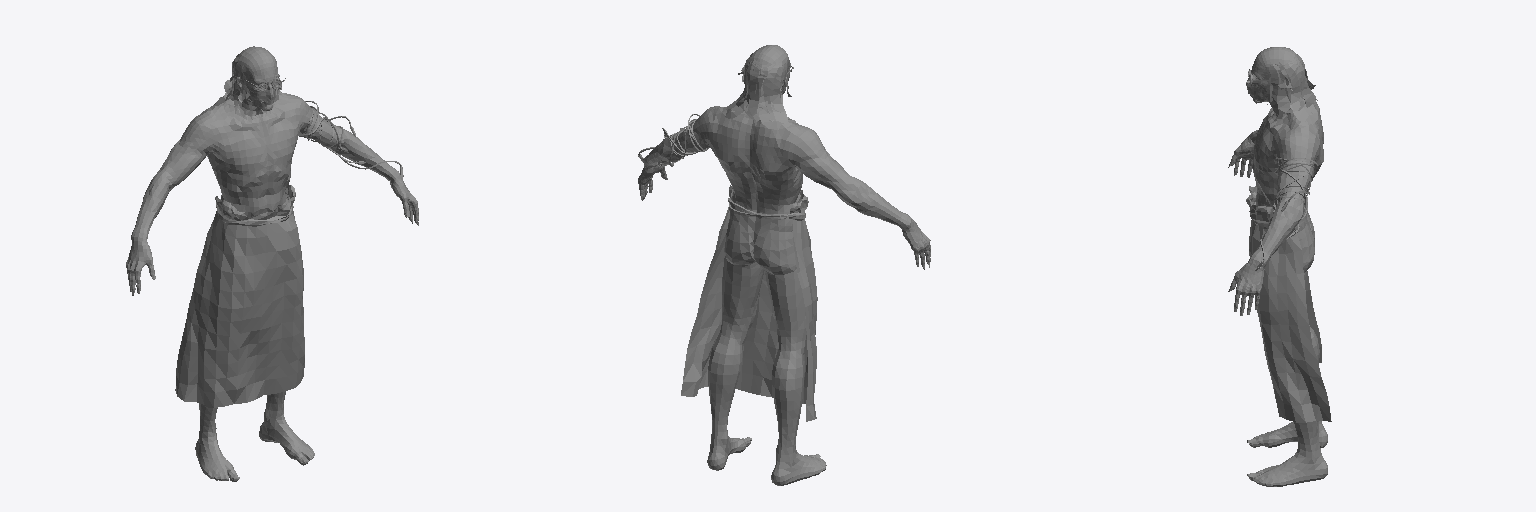
Rendered from Surgeon.obj.
3 renders of one model, left to right at view 1: azimuth 30°, elevation 25°; view 2: azimuth 150°, elevation 25°; view 3: azimuth 270°, elevation 25°, orthographic.
Visible parts, largest first — view 1: Surgeon; view 2: Surgeon; view 3: Surgeon.
Part boxes in pixels (left/top/right/bottom): Surgeon: left=126, top=46, right=418, bottom=481; Surgeon: left=638, top=45, right=930, bottom=485; Surgeon: left=1228, top=47, right=1331, bottom=486.
Size of the model in its own units: 135 by 187 by 42.